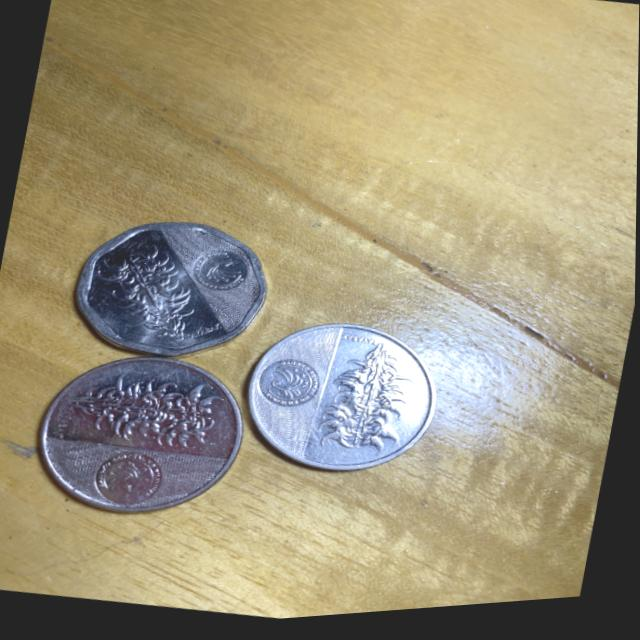5_New_Back: (307, 328, 437, 471), (92, 225, 221, 356)
